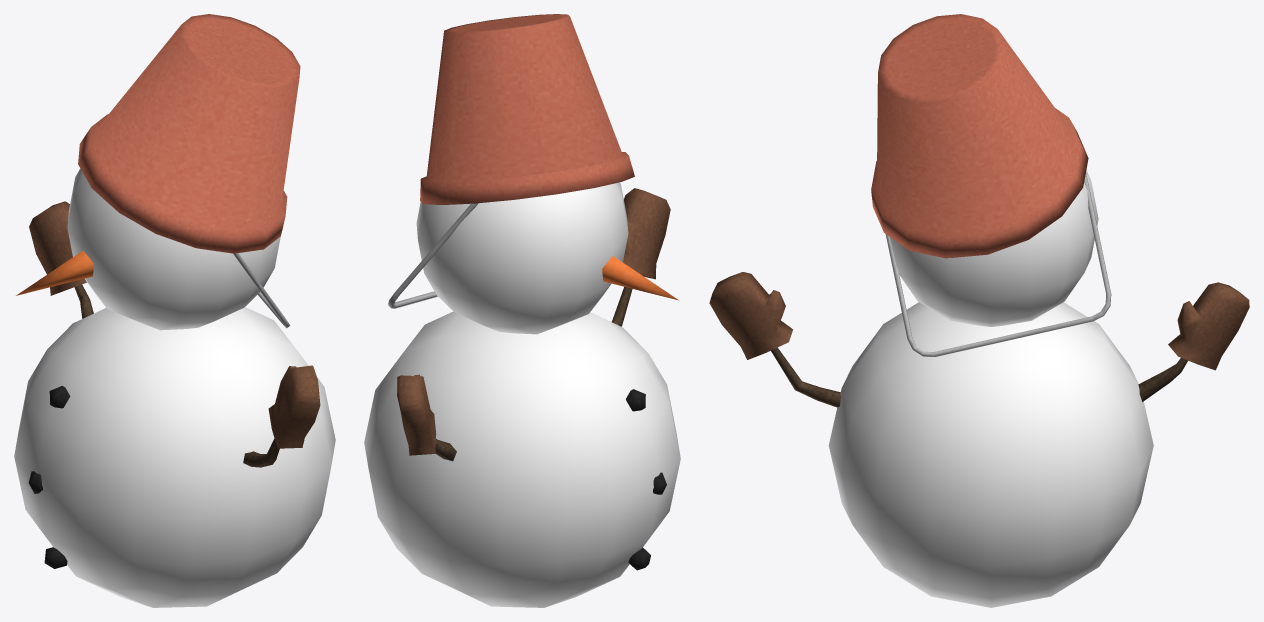
The picture shows the model from 3 angles, left to right: view 1: azimuth 30°, elevation 25°; view 2: azimuth 150°, elevation 25°; view 3: azimuth 270°, elevation 25°; orthographic projection.
Visible parts, largest first — view 1: sm_02_body, sm_02_bukket, sm_02_head, sm_02_glove, sm_02_carrot, sm_02_button, sm_02_wood; view 2: sm_02_body, sm_02_bukket, sm_02_head, sm_02_glove, sm_02_carrot, sm_02_button, sm_02_wood; view 3: sm_02_body, sm_02_bukket, sm_02_head, sm_02_glove, sm_02_wood.
Boxes of the visible parts, x1=… form: sm_02_body: x1=14, y1=307, x2=335, y2=607; sm_02_bukket: x1=78, y1=14, x2=300, y2=328; sm_02_head: x1=67, y1=168, x2=280, y2=330; sm_02_glove: x1=29, y1=201, x2=320, y2=448; sm_02_carrot: x1=16, y1=250, x2=93, y2=295; sm_02_button: x1=28, y1=385, x2=70, y2=568; sm_02_wood: x1=74, y1=284, x2=279, y2=467; sm_02_body: x1=364, y1=311, x2=680, y2=607; sm_02_bukket: x1=388, y1=14, x2=634, y2=308; sm_02_head: x1=416, y1=182, x2=628, y2=334; sm_02_glove: x1=397, y1=188, x2=670, y2=455; sm_02_carrot: x1=602, y1=256, x2=678, y2=300; sm_02_button: x1=626, y1=389, x2=666, y2=570; sm_02_wood: x1=435, y1=287, x2=632, y2=461; sm_02_body: x1=828, y1=302, x2=1153, y2=607; sm_02_bukket: x1=871, y1=14, x2=1111, y2=356; sm_02_head: x1=889, y1=170, x2=1098, y2=326; sm_02_glove: x1=709, y1=272, x2=1249, y2=370; sm_02_wood: x1=771, y1=347, x2=1187, y2=407.
Bounding box in the file's own units: 190 × 295 × 347.
